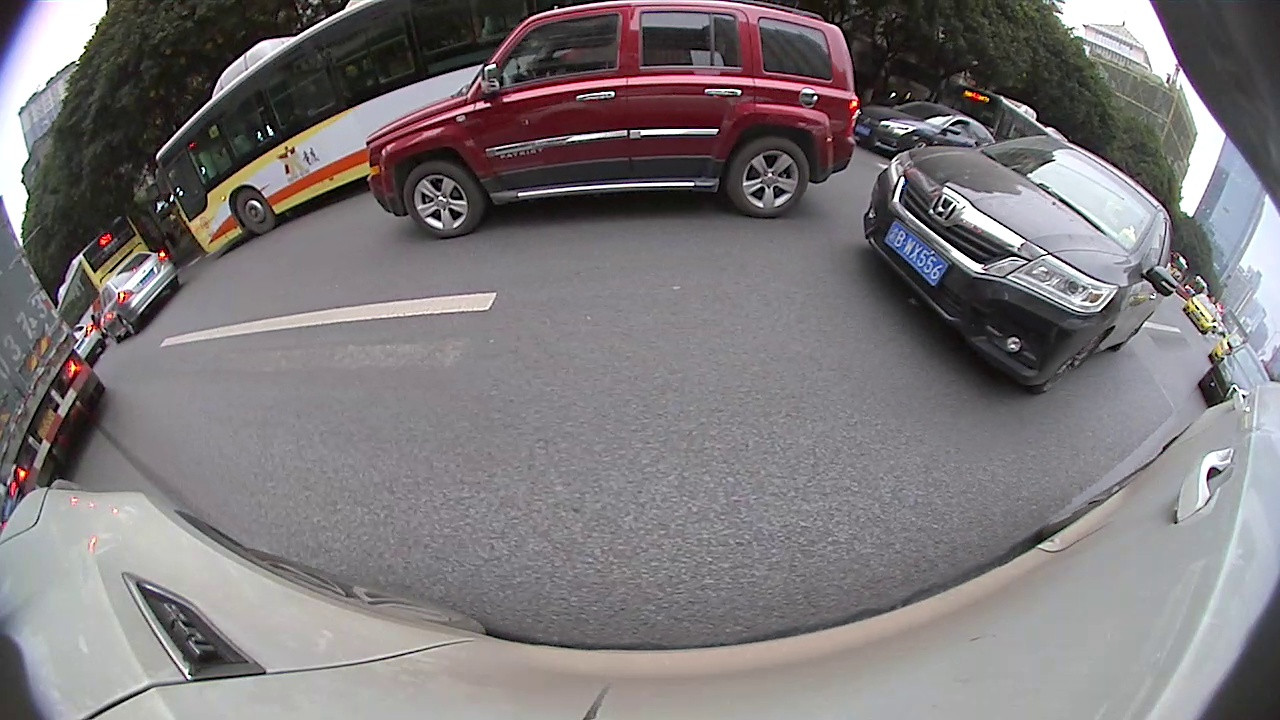bus: (154, 4, 556, 262), (52, 214, 147, 338), (950, 82, 1070, 140)
car: (366, 2, 862, 237), (861, 137, 1177, 394), (852, 102, 999, 159), (92, 251, 179, 343), (1200, 350, 1273, 407), (1183, 290, 1222, 336)
front: (403, 160, 489, 236), (235, 188, 276, 235)
rear: (725, 135, 810, 218), (119, 315, 139, 336)
truck: (1, 196, 100, 493)
